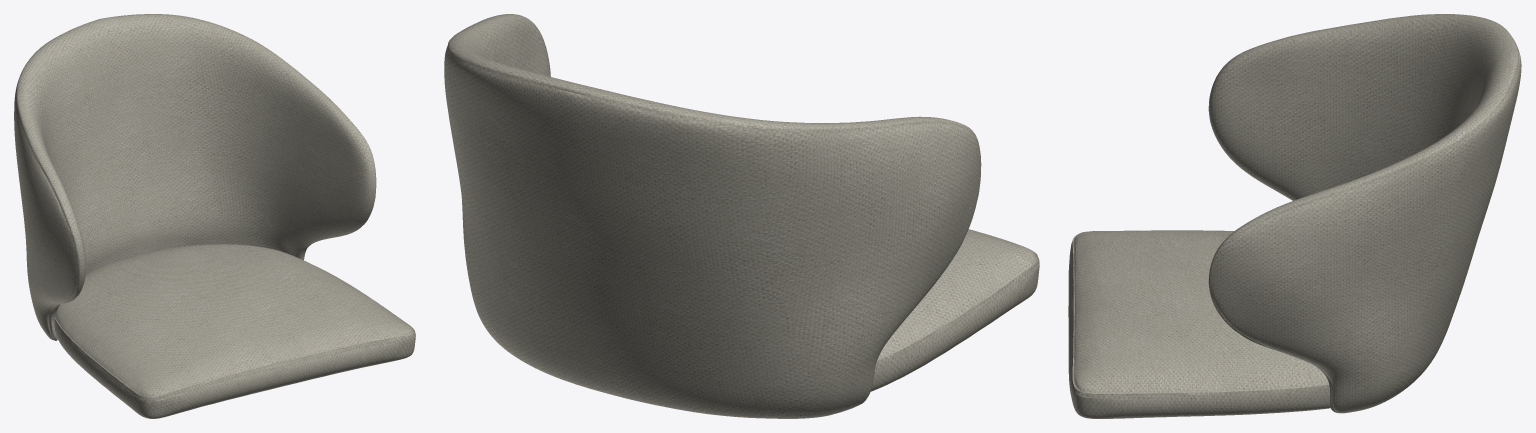
Rendered from Molly.glb.
The picture shows the model from 3 angles, left to right: view 1: azimuth 30°, elevation 25°; view 2: azimuth 150°, elevation 25°; view 3: azimuth 270°, elevation 25°; orthographic projection. The views are drawn at different scales.
Visible parts, largest first — view 1: backseat; view 2: backseat; view 3: backseat.
Part boxes in pixels (x1=…): backseat: x1=14, y1=14, x2=415, y2=418; backseat: x1=444, y1=14, x2=1039, y2=418; backseat: x1=1068, y1=14, x2=1521, y2=418.
Size of the model in its own units: 0.5635 by 0.4139 by 0.5832.
Materials: 1 (1 with a texture image).
